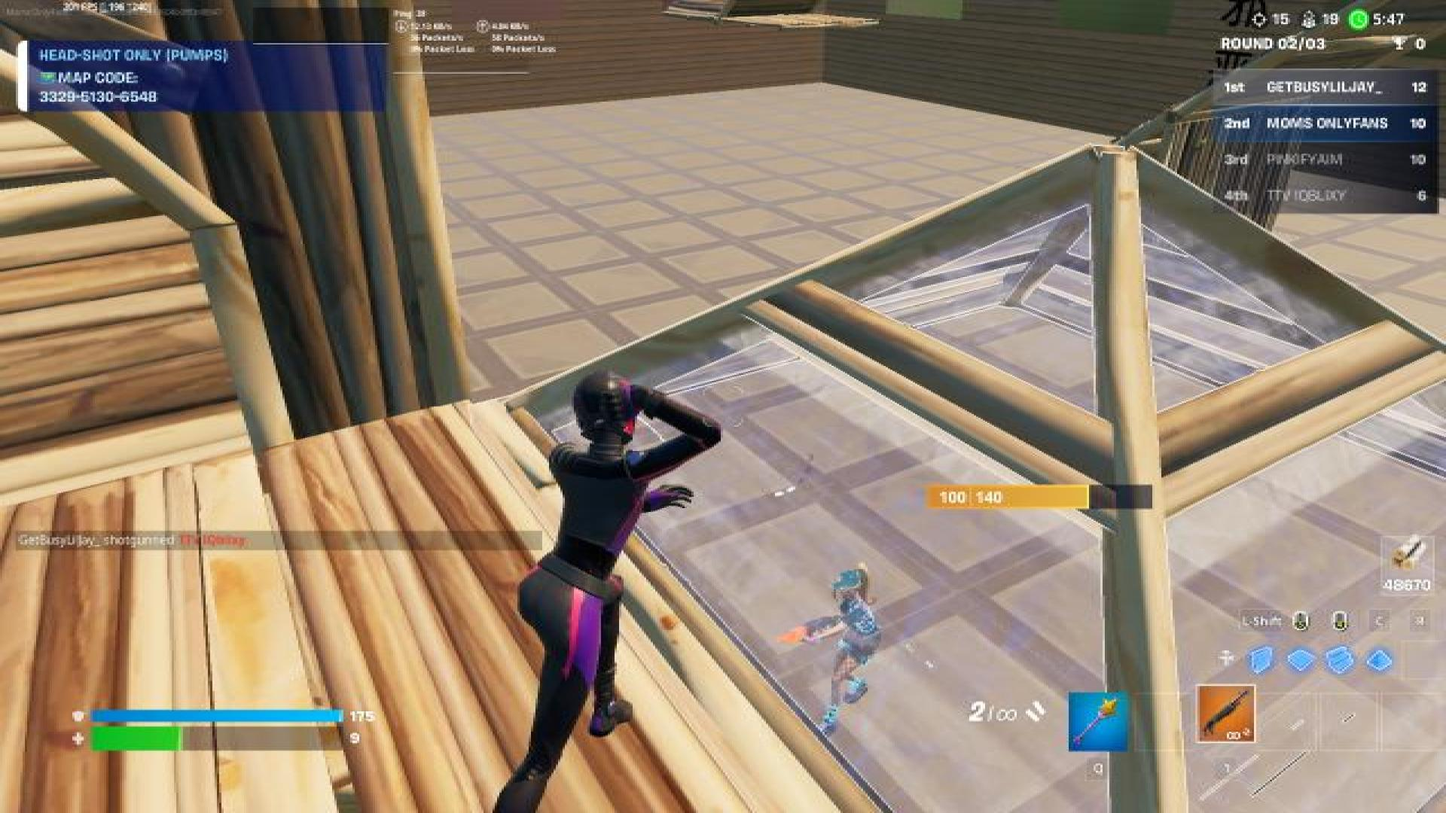player: (790, 571, 914, 737)
